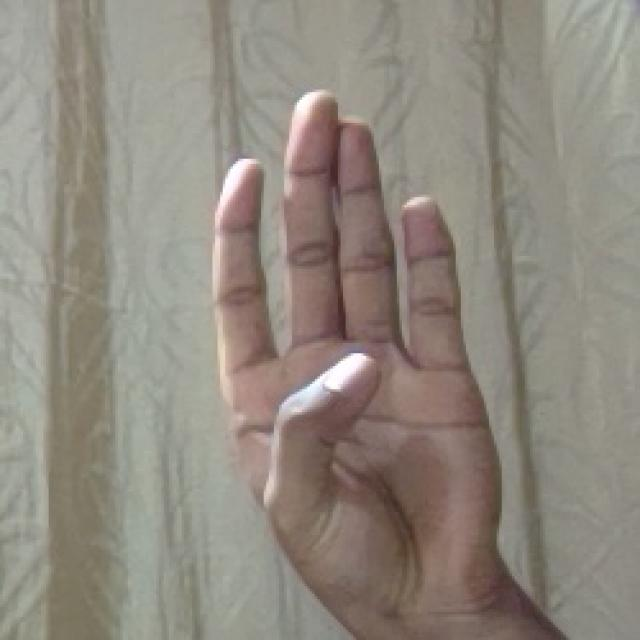Numeric-4: (208, 83, 506, 615)
